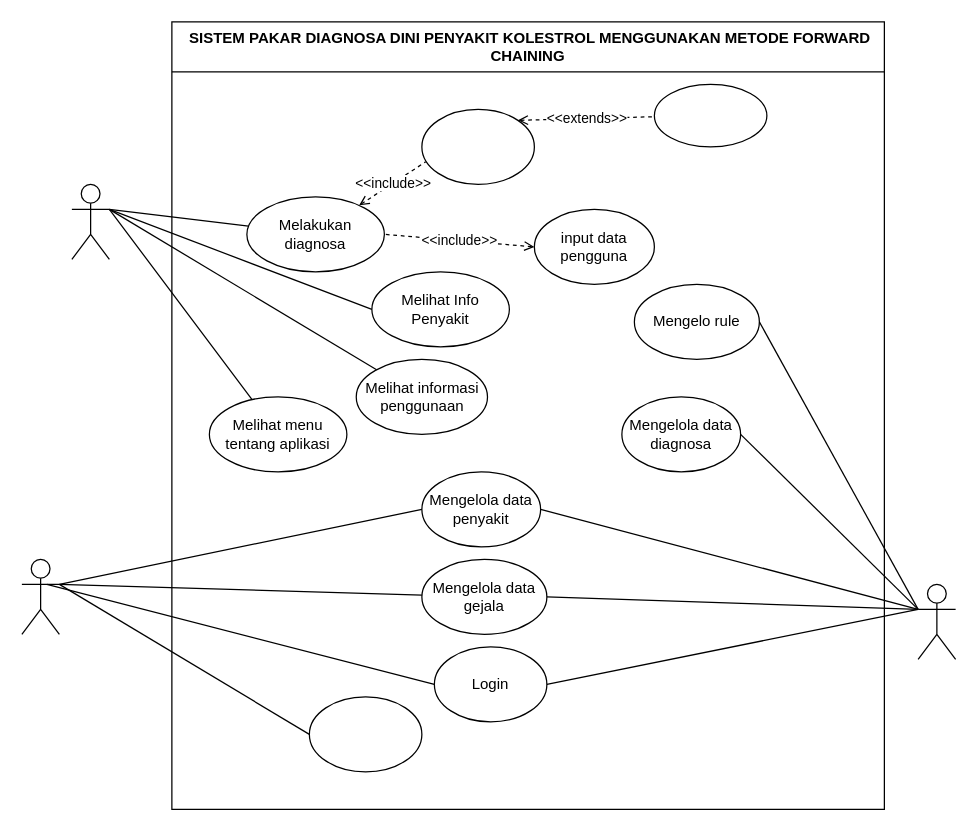
This 980x831 diagram has some shape labels left out. The shapes that lost their labels are listed below. From the top down, each one's centre as x and y in pixels, then its label:
At [710,115]: "Cetak hasil diagnosa".
At [477,146]: "Hasil diagnosa".
At [90,221]: "Pasien".
At [40,596]: "Pakar".
At [936,621]: "Admin".
At [365,734]: "melihat rule".
